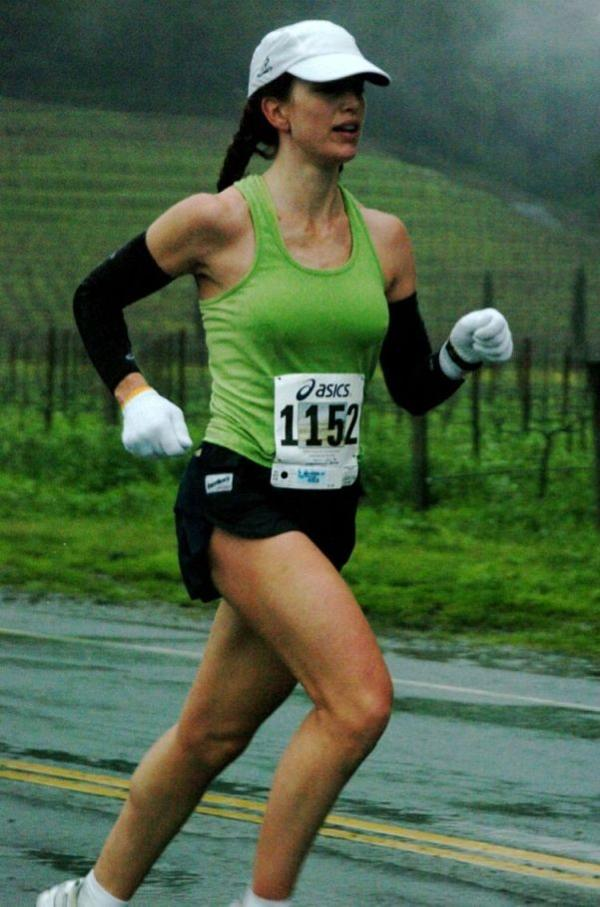person: (34, 18, 513, 900)
